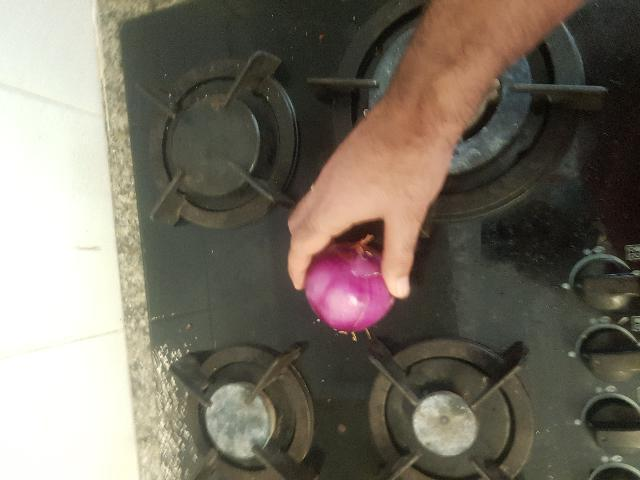onion: (158, 304, 246, 405)
